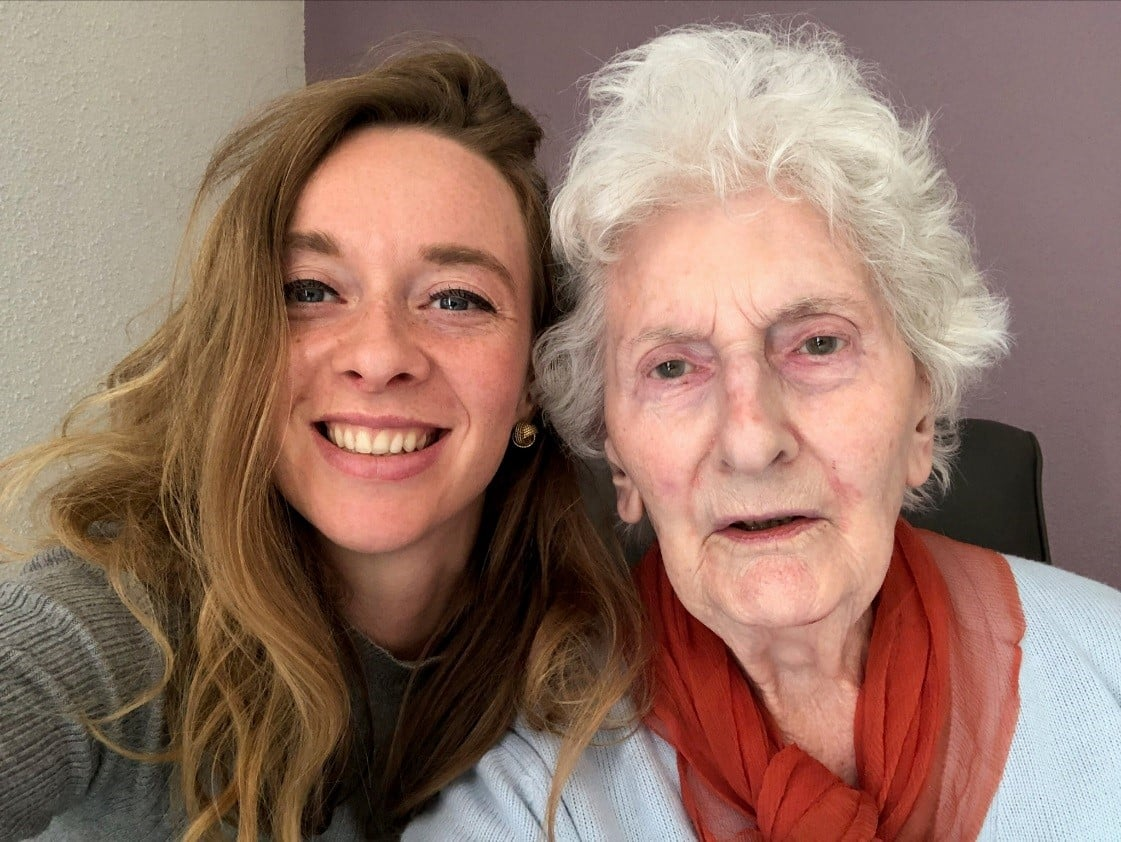without_mask: (634, 236, 898, 633), (252, 211, 508, 538)
